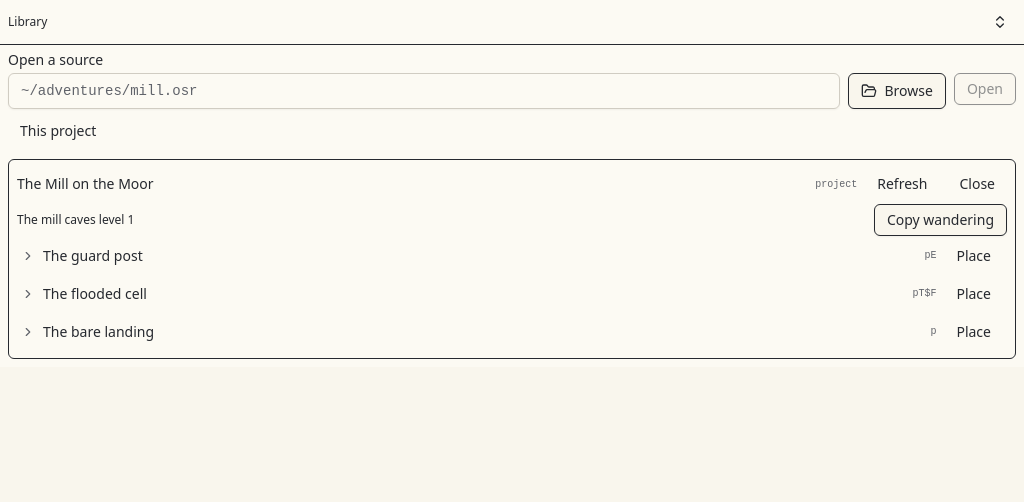
Test: expand all opens every preview — trap, treasure, and features included — then flips
The width and height of the screenshot is (1024, 502).
Click the button named "Expand all previews".
click(1000, 22)  # box x1=984 y1=6 x2=1016 y2=38
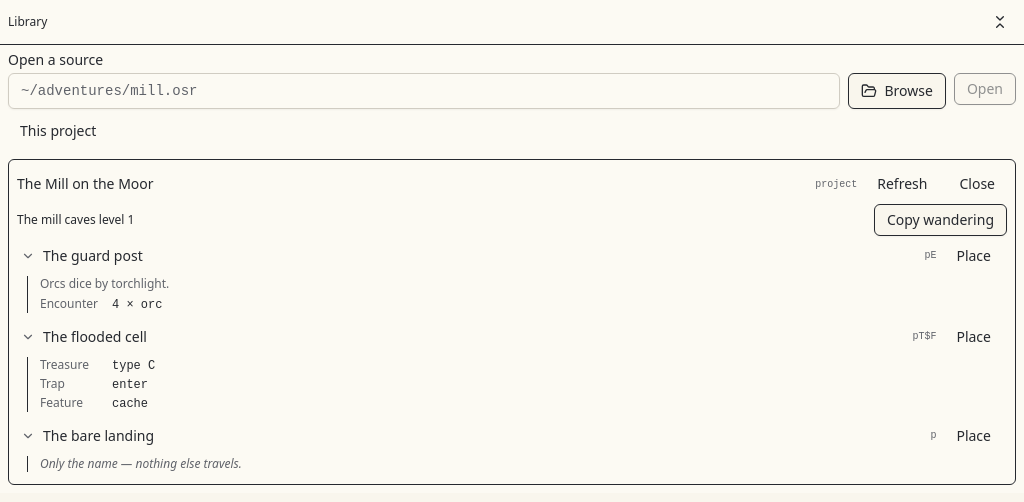
Expected: the element with test id "entry-preview-cell-2" shows "Trap", x1=40 y1=375 x2=65 y2=392
Expected: the element with test id "entry-preview-cell-2" shows "enter", x1=112 y1=378 x2=148 y2=392
Expected: the element with test id "entry-preview-cell-2" shows "type C", x1=112 y1=359 x2=155 y2=373
# Every preview open flips the toggle to collapse.
Click the button named "Collapse all previews".
click(1000, 22)  # box x1=984 y1=6 x2=1016 y2=38
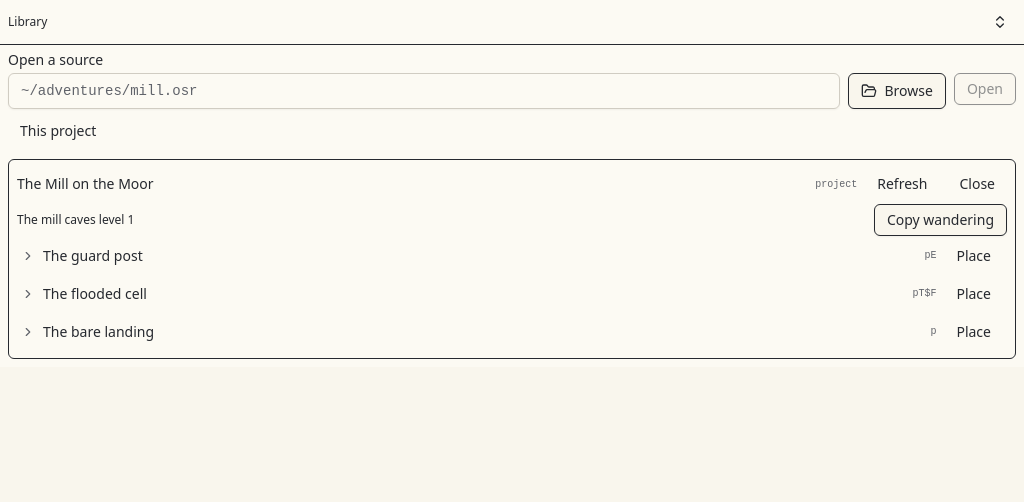
Expected: the element with test id "entry-preview-cell-2" is gone
